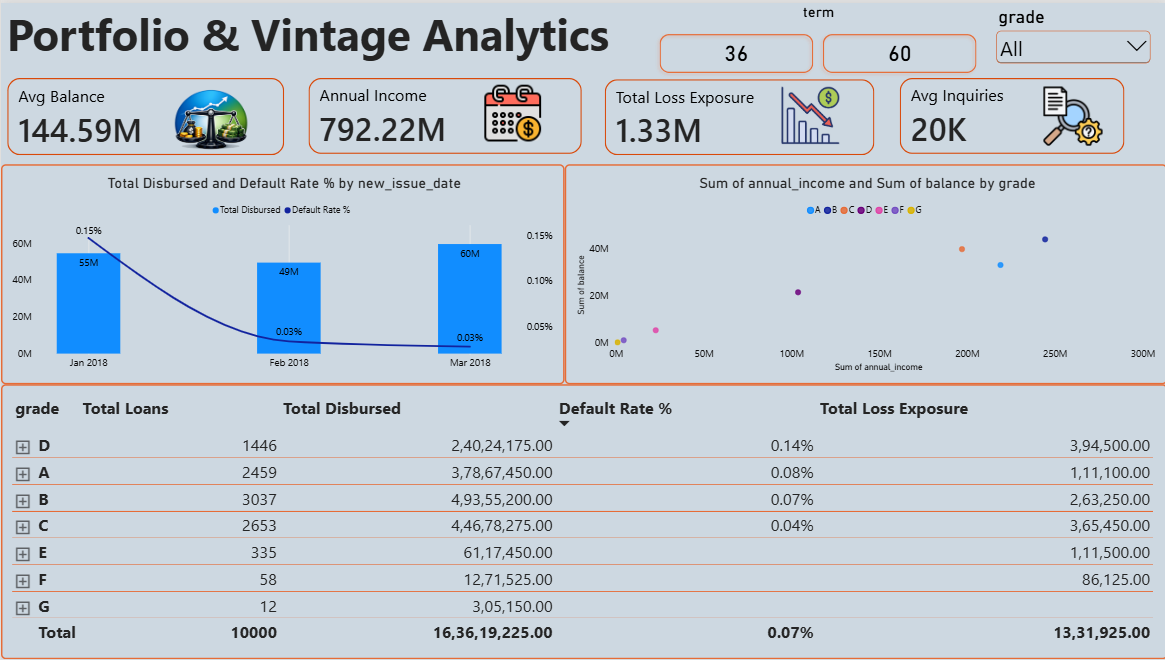

The page's visual inventory and layout, read from the dashboard file:
{"tool":"powerbi","page":{"name":"Portfolio & Vintage Analytics","canvas":[1920,1080],"ordinal":2},"visuals":[{"type":"advancedSlicerVisual","fields":{"Values":["public loan_portfolio.term"]},"box":[1076.5,0,539.3,123.5],"z":0},{"type":"slicer","fields":{"Values":["public loan_portfolio.grade"]},"box":[1634.3,4.1,263.5,121.4],"z":1000},{"type":"textbox","box":[0,2.1,1010.6,121.4],"z":2000},{"type":"cardVisual","fields":{"Data":["Sum(public loan_portfolio.balance)"]},"box":[10.3,123.5,456.9,127.6],"z":3000},{"type":"cardVisual","fields":{"Data":["Sum(public loan_portfolio.annual_income)"]},"box":[506.3,123.5,450.8,125.6],"z":4000},{"type":"cardVisual","fields":{"Data":["Calculated Measures.Total Loss Exposure"]},"box":[994.2,125.6,444.6,125.6],"z":5000},{"type":"cardVisual","fields":{"Data":["Sum(public loan_portfolio.inquiries_last_12m)"]},"box":[1479.9,123.5,370.5,125.6],"z":6000},{"type":"lineStackedColumnComboChart","fields":{"Y":["Calculated Measures.Total Disbursed"],"Y2":["Calculated Measures.Default Rate %"],"Category":["public loan_portfolio.new_issue_date"]},"box":[0,265.5,928.3,362.3],"z":7000},{"type":"scatterChart","fields":{"X":["Sum(public loan_portfolio.annual_income)"],"Y":["Sum(public loan_portfolio.balance)"],"Series":["public loan_portfolio.grade"]},"box":[928.3,265.5,992.1,362.3],"z":8000},{"type":"pivotTable","fields":{"Rows":["public loan_portfolio.grade","public loan_portfolio.sub_grade"],"Values":["Calculated Measures.Total Loans","Calculated Measures.Total Disbursed","Calculated Measures.Default Rate %","Calculated Measures.Total Loss Exposure"]},"box":[0,627.8,1920.4,452.8],"z":8001},{"type":"image","box":[238.8,123.5,214.1,152.3],"z":8002},{"type":"image","box":[743.1,129.7,199.7,102.9],"z":8003},{"type":"image","box":[1241.2,137.9,183.2,94.7],"z":8004},{"type":"image","box":[1679.6,135.8,170.8,100.9],"z":8005}]}

Visuals, with their boxes in screenshot pixels (x1, y1, x2, y2), scaled from the page's 1920x1080 canvas onto the 1165x660 screenshot:
advancedSlicerVisual - public loan_portfolio.term: Rect(653, 0, 980, 75)
slicer - public loan_portfolio.grade: Rect(992, 3, 1152, 77)
textbox: Rect(0, 1, 613, 75)
cardVisual - Sum(public loan_portfolio.balance): Rect(6, 75, 283, 153)
cardVisual - Sum(public loan_portfolio.annual_income): Rect(307, 75, 581, 152)
cardVisual - Calculated Measures.Total Loss Exposure: Rect(603, 77, 873, 154)
cardVisual - Sum(public loan_portfolio.inquiries_last_12m): Rect(898, 75, 1123, 152)
lineStackedColumnComboChart - Calculated Measures.Total Disbursed x Calculated Measures.Default Rate %: Rect(0, 162, 563, 384)
scatterChart - Sum(public loan_portfolio.annual_income) x Sum(public loan_portfolio.balance): Rect(563, 162, 1164, 384)
pivotTable - public loan_portfolio.grade x public loan_portfolio.sub_grade: Rect(0, 384, 1164, 659)
image: Rect(145, 75, 275, 169)
image: Rect(451, 79, 572, 142)
image: Rect(753, 84, 864, 142)
image: Rect(1019, 83, 1123, 145)
